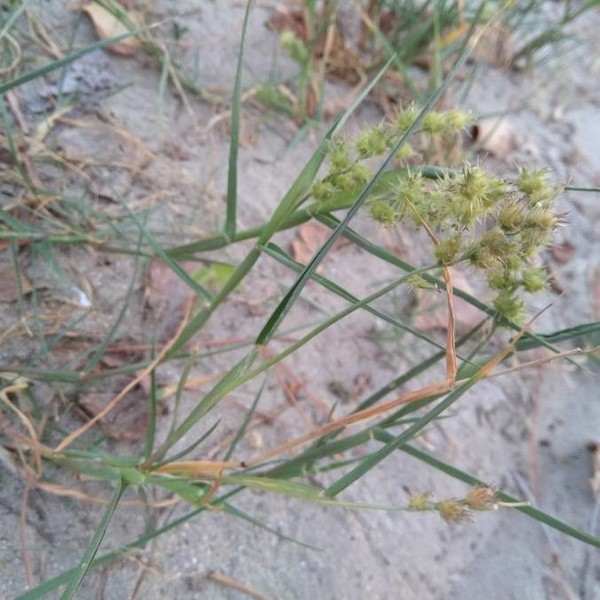obstacle: (147, 69, 575, 372)
